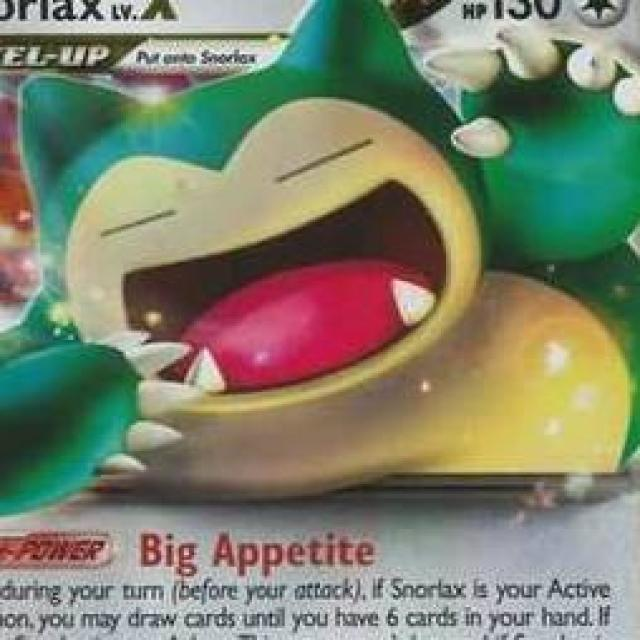Snorlax: (0, 30, 640, 511)
